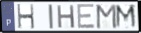E: (76, 3, 96, 30)
H: (16, 4, 36, 30), (56, 4, 76, 29)
I: (48, 4, 55, 30)
M: (115, 3, 138, 29), (96, 4, 118, 30)
